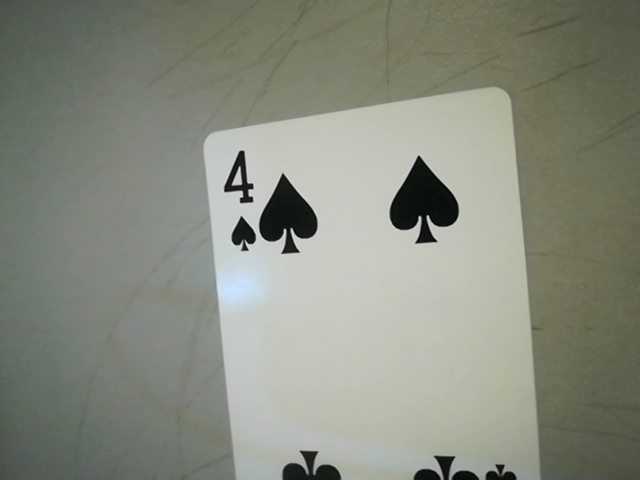ht 4: (212, 142, 262, 256)
